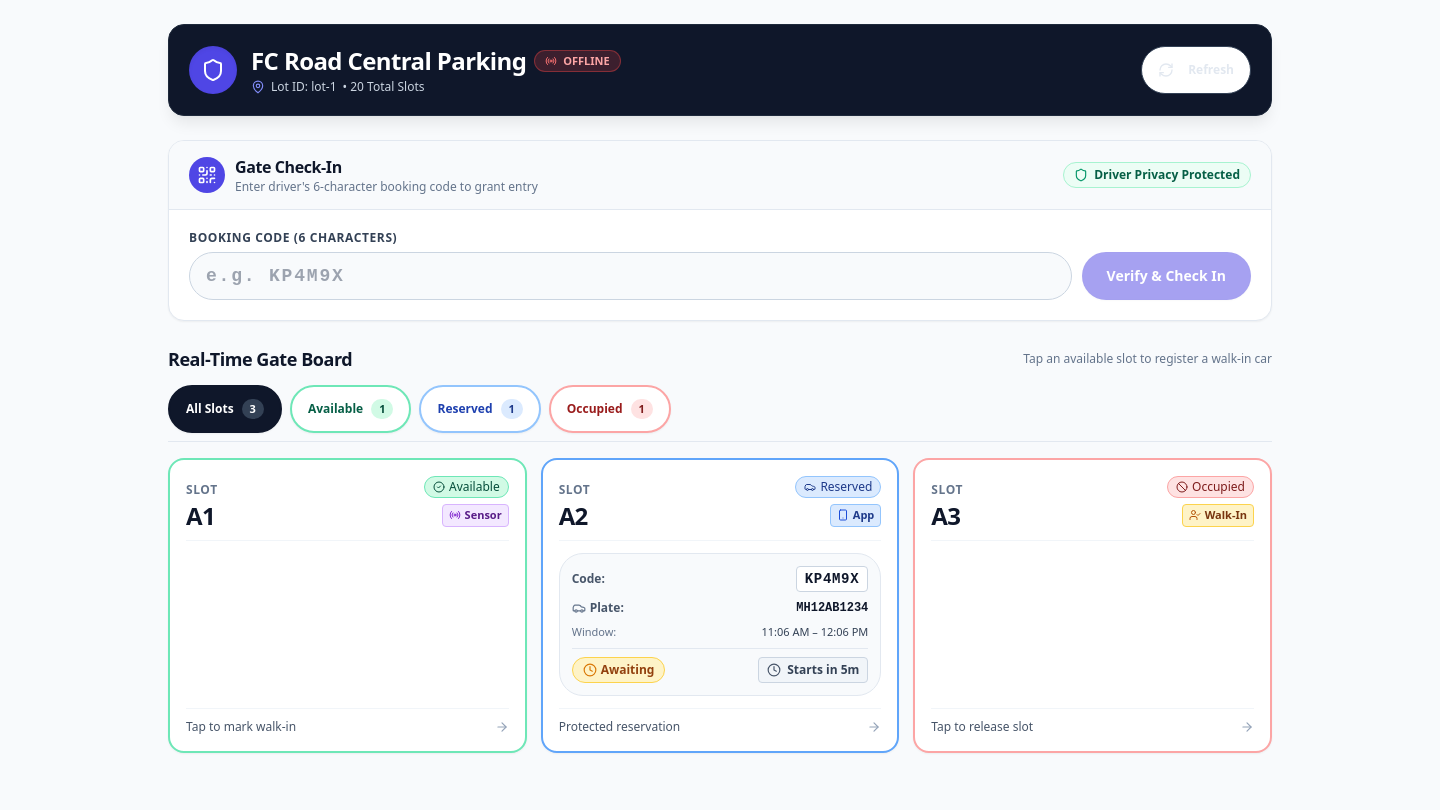
Scenario: Guard Console UI Suite (Stage 6) › prevents walk-in override on reserved slot and displays protected warning
Check: the heading "A2" is shown, box [559,500,590,532]
# Click on Slot A2 (Reserved)
Click the button "A2" at (720,606), box [541,458,899,753]
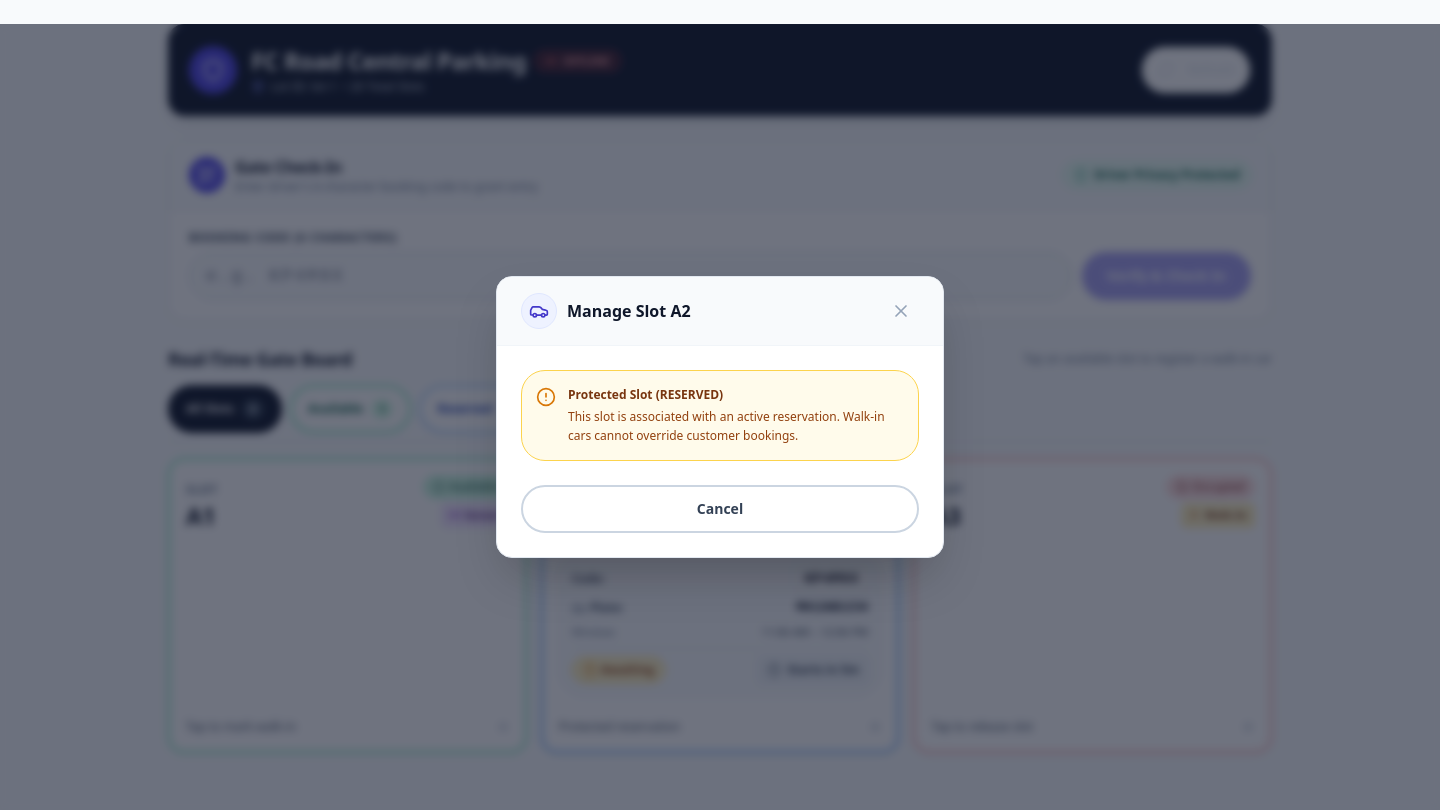
Check: the dialog is shown
Check: the text "Protected Slot (RESERVED)" is shown, box [568,386,723,403]
Check: the text "cannot override customer bookings" is shown, box [568,408,885,444]
